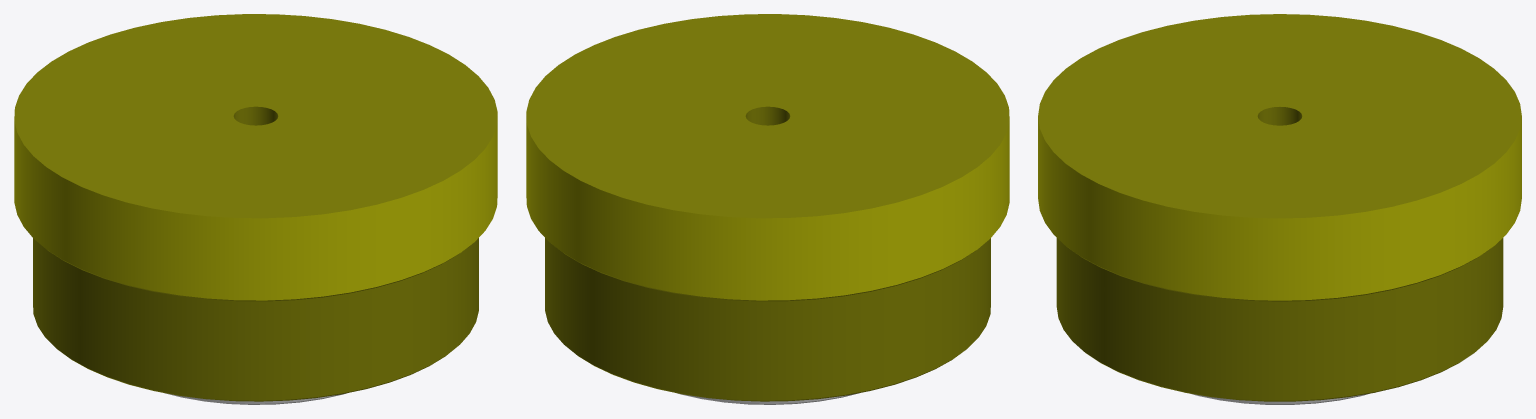
File: PRL 120 Rotor.dae
3 views of the same model, side by side, from view 1: azimuth 30°, elevation 25°; view 2: azimuth 150°, elevation 25°; view 3: azimuth 270°, elevation 25° (orthographic).
Parts seen in each view (by area): view 1: Actor0; view 2: Actor0; view 3: Actor0.
Part boxes in pixels (x1,y1,x2,y2): Actor0: (14, 14, 497, 404); Actor0: (526, 14, 1009, 404); Actor0: (1038, 14, 1521, 404).
Size of the model in its own units: 0.13 by 0.0649 by 0.13.
